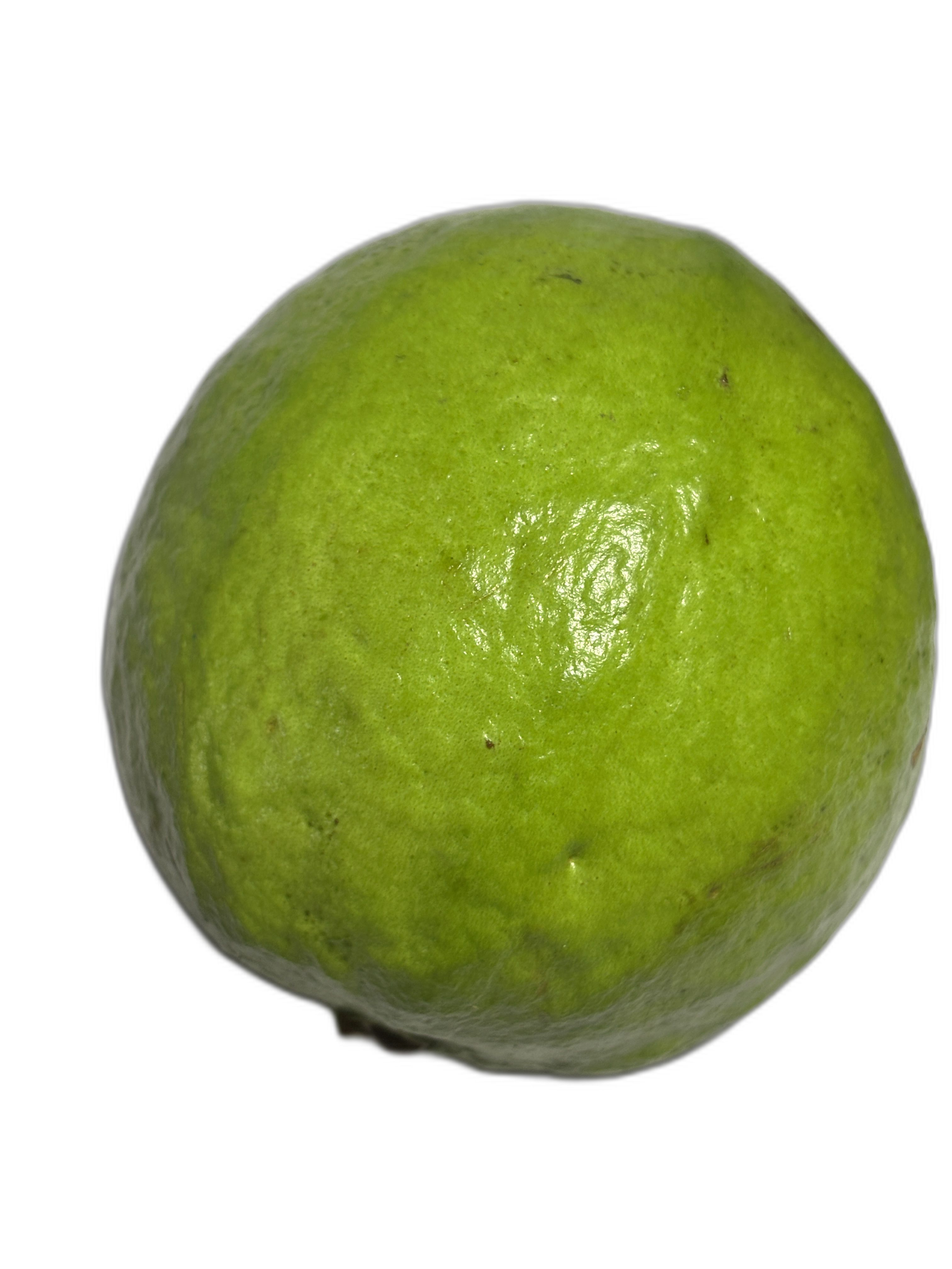guava: (170, 0, 810, 1087)
